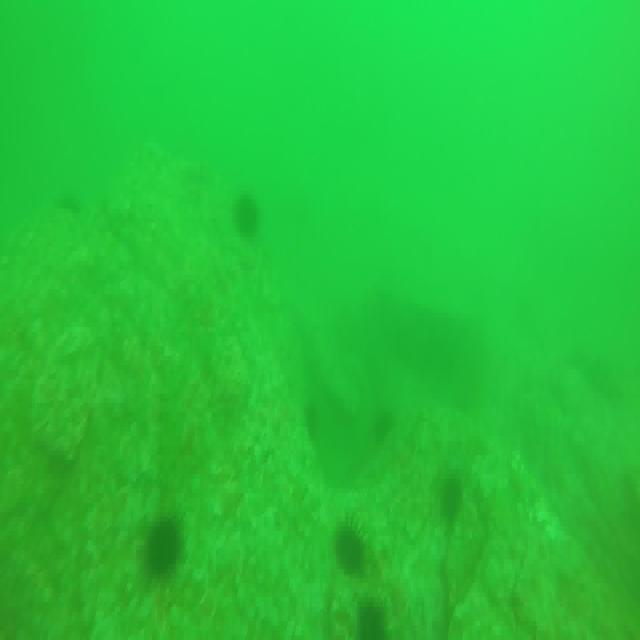echinus: (148, 515, 182, 579), (337, 518, 367, 582), (439, 471, 466, 526), (353, 599, 387, 640), (234, 191, 260, 242)
